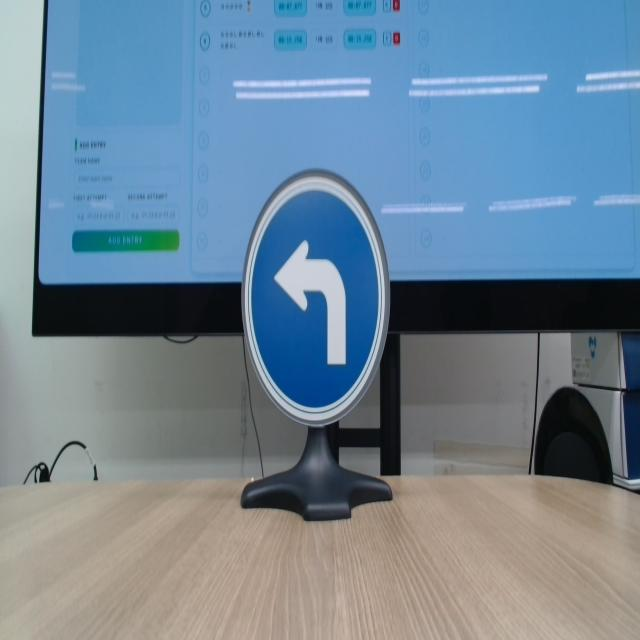left_direction: (232, 155, 400, 438)
